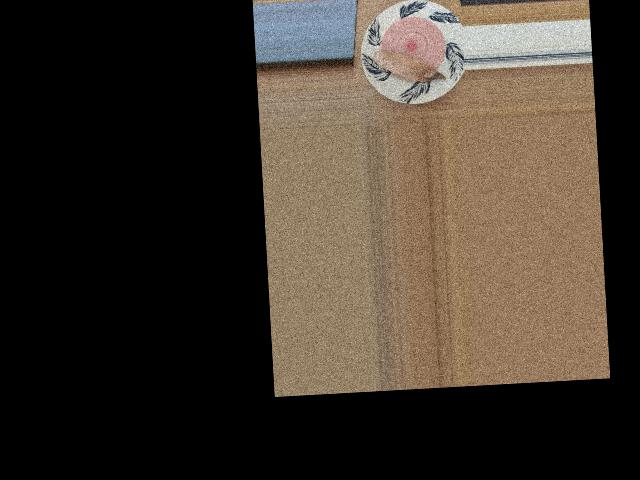sweet_potato: (377, 45, 438, 84)
